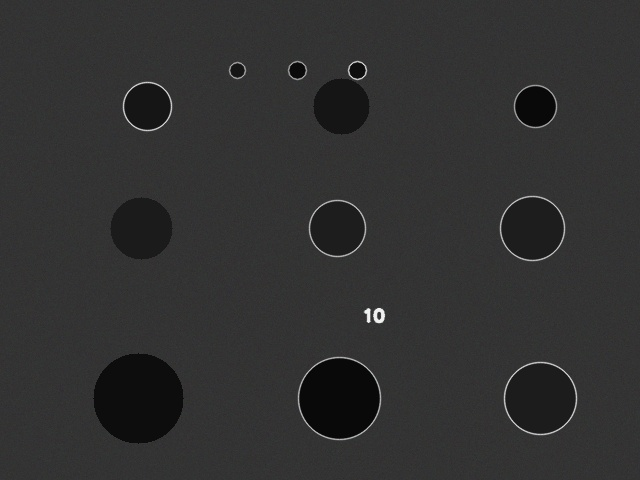hole: (93, 353, 183, 443), (298, 357, 380, 439), (504, 362, 576, 434), (500, 196, 564, 260), (110, 197, 172, 259), (313, 78, 369, 134), (309, 200, 365, 256), (123, 82, 171, 130), (514, 85, 556, 127), (288, 61, 306, 79), (348, 61, 366, 79), (229, 62, 245, 78)
